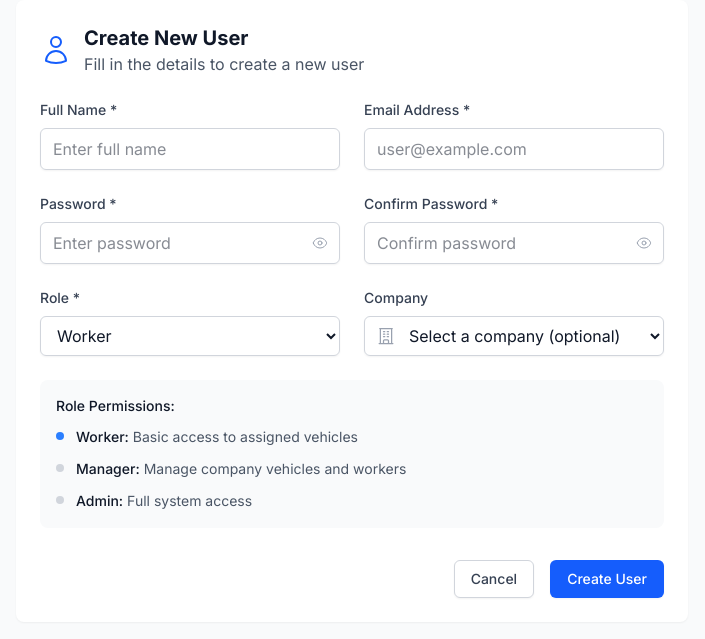
UserForm › rejects the email plainaddress
This screenshot has width=705, height=639.
Expected: the heading "Create New User" is shown, top-left (84, 26), bottom-right (248, 50)
Type "N" into the field with placeholder "Enter full name" at {"x": 190, "y": 149}, box top-left (40, 128), bottom-right (340, 170)
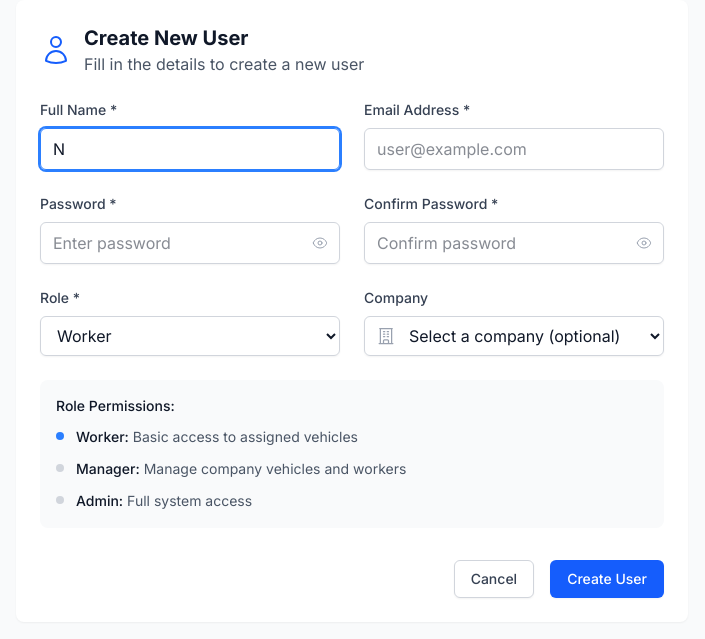
Type "plainaddress" into the field with placeholder "user@example.com" at {"x": 514, "y": 149}, box top-left (364, 128), bottom-right (664, 170)
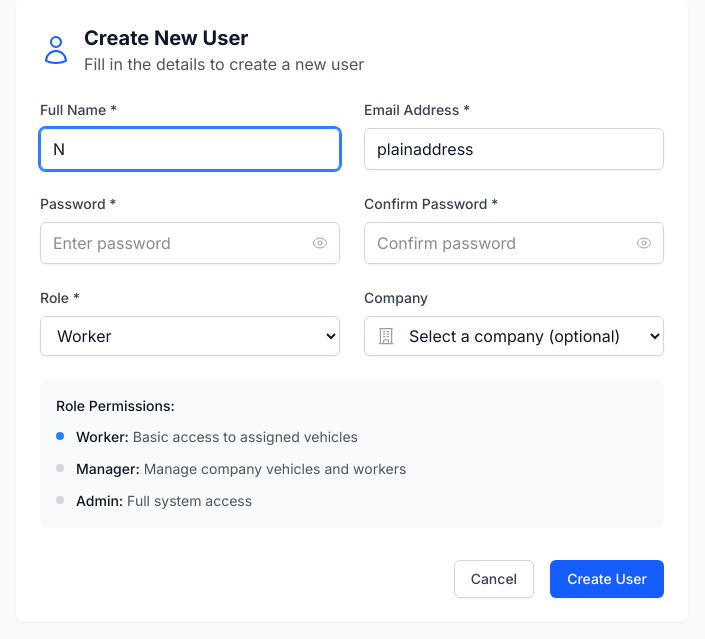
Type "Str0ng!pass" into the password field with placeholder "Enter password" at {"x": 190, "y": 243}, box top-left (40, 222), bottom-right (340, 264)
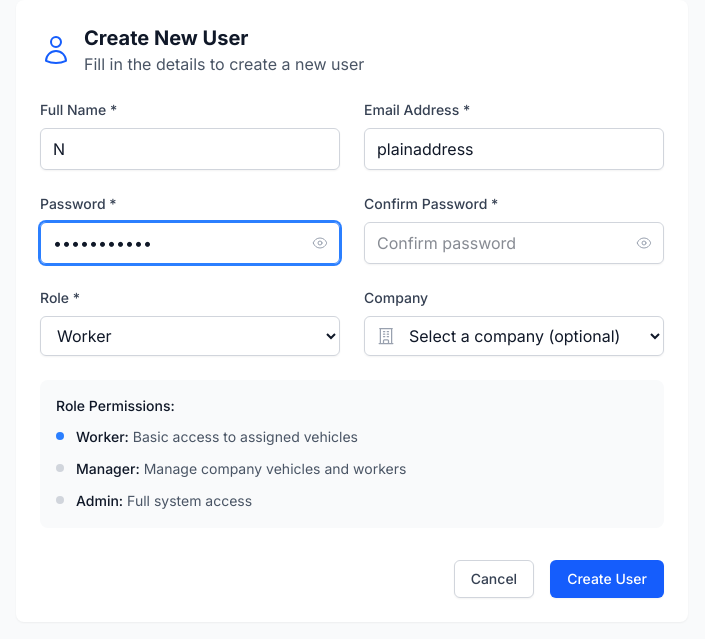
Type "Str0ng!pass" into the password field with placeholder "Confirm password" at {"x": 514, "y": 243}, box top-left (364, 222), bottom-right (664, 264)
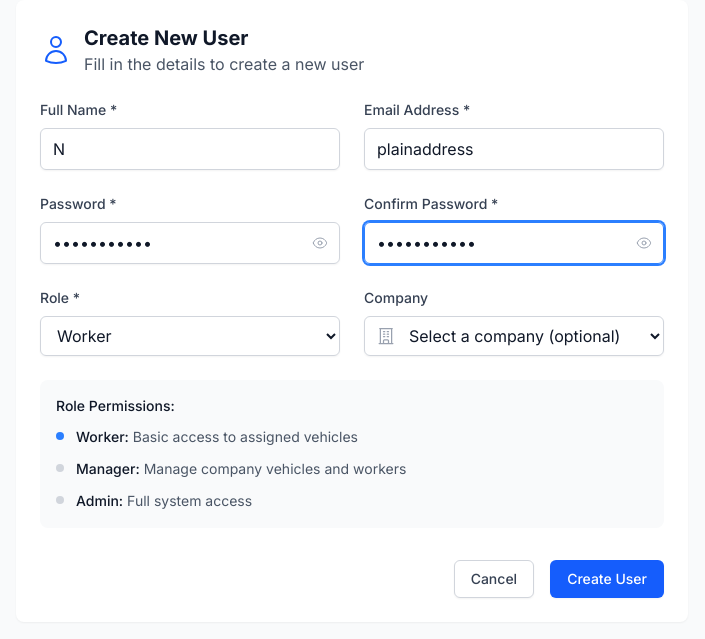
Submit the form
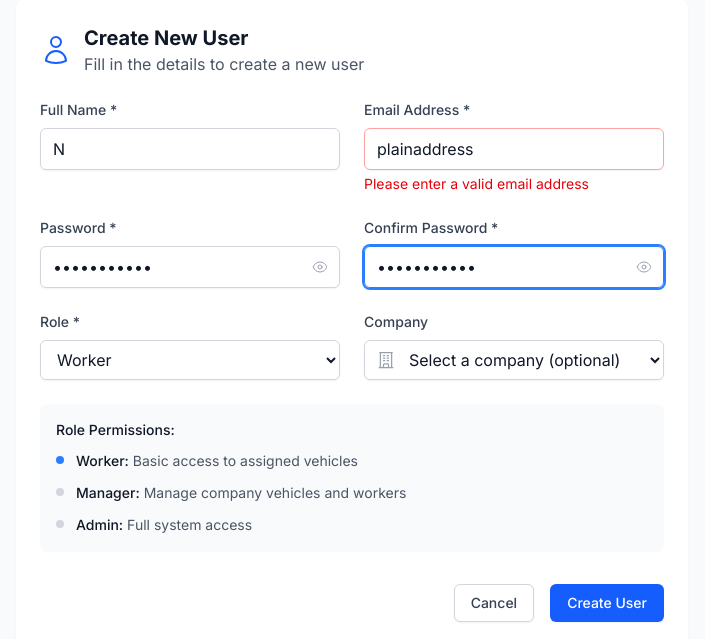
Expected: the text "Please enter a valid email address" is shown, top-left (364, 175), bottom-right (589, 192)
